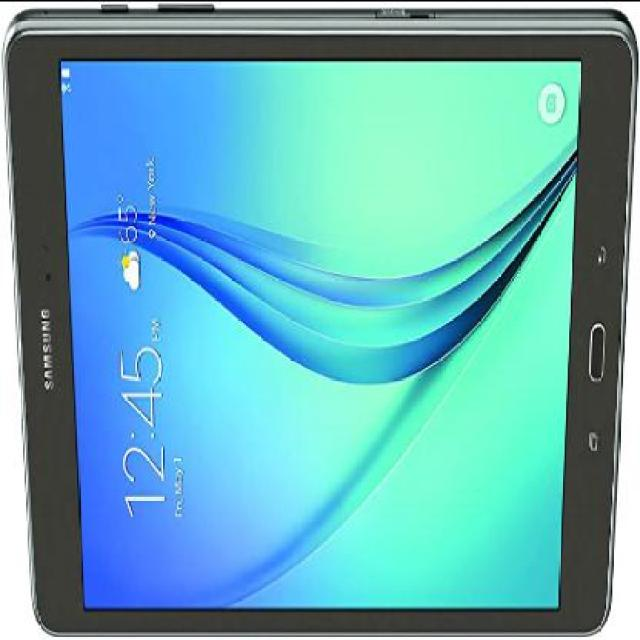tablet: (5, 19, 622, 634)
